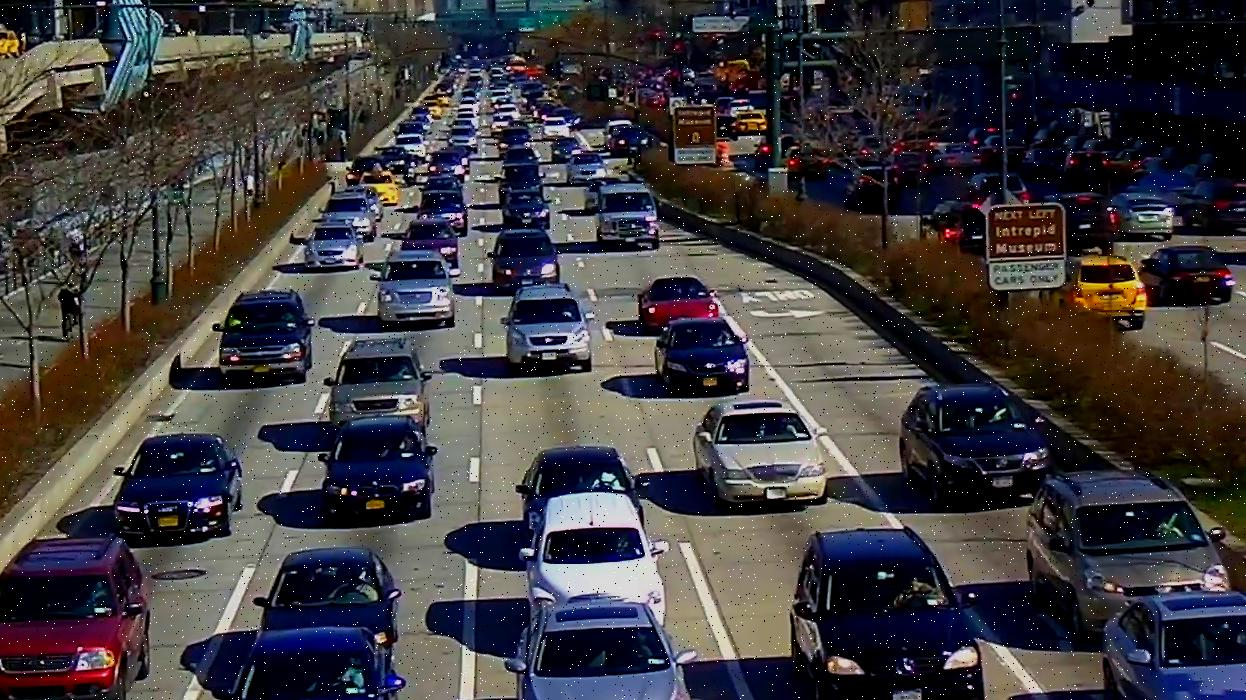car: (1026, 470, 1236, 631), (795, 530, 986, 700), (0, 536, 152, 700), (531, 492, 667, 621), (517, 604, 687, 700), (1099, 589, 1246, 700), (900, 388, 1046, 496), (690, 402, 828, 503), (114, 433, 246, 530), (230, 631, 399, 700), (266, 550, 401, 635), (324, 421, 437, 513), (322, 343, 433, 430), (206, 292, 314, 381), (495, 284, 592, 374), (516, 446, 642, 515), (657, 317, 754, 398), (1137, 243, 1237, 306), (1065, 257, 1148, 321), (370, 268, 460, 326), (633, 277, 723, 329), (595, 184, 662, 249), (1175, 180, 1246, 236), (491, 229, 556, 282), (305, 223, 363, 269), (402, 221, 458, 264), (323, 196, 376, 235), (421, 191, 468, 233), (502, 193, 552, 226), (498, 164, 539, 197), (360, 171, 396, 203), (566, 154, 606, 182), (424, 175, 459, 193)
